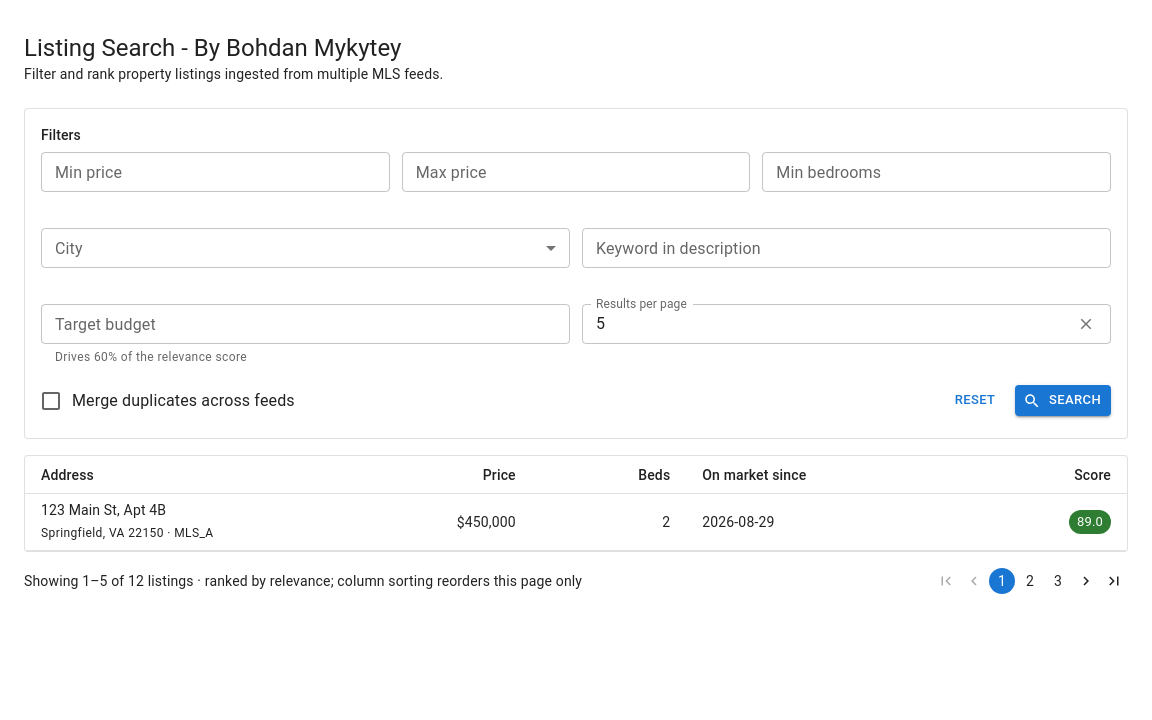
Scenario: caching › shows updated data when a revalidation returns something different
This screenshot has width=1152, height=720.
Expected: the text "123 Main St, Apt 4B" is shown, left=41, top=502, right=166, bottom=518
What coordinates should you click on to do the following:
click the button named "go to page 2"
I would click on:
 (1030, 581)
Its box is left=1017, top=568, right=1043, bottom=594.
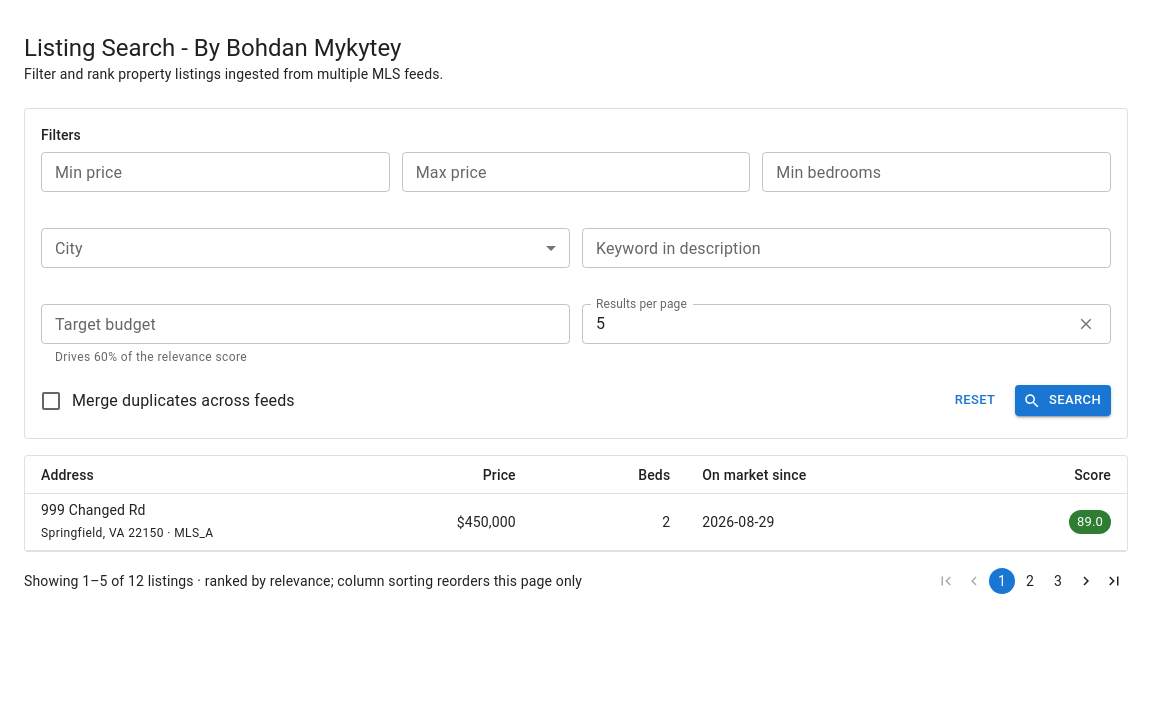
Expected: the text "999 Changed Rd" is shown, left=41, top=502, right=146, bottom=518
